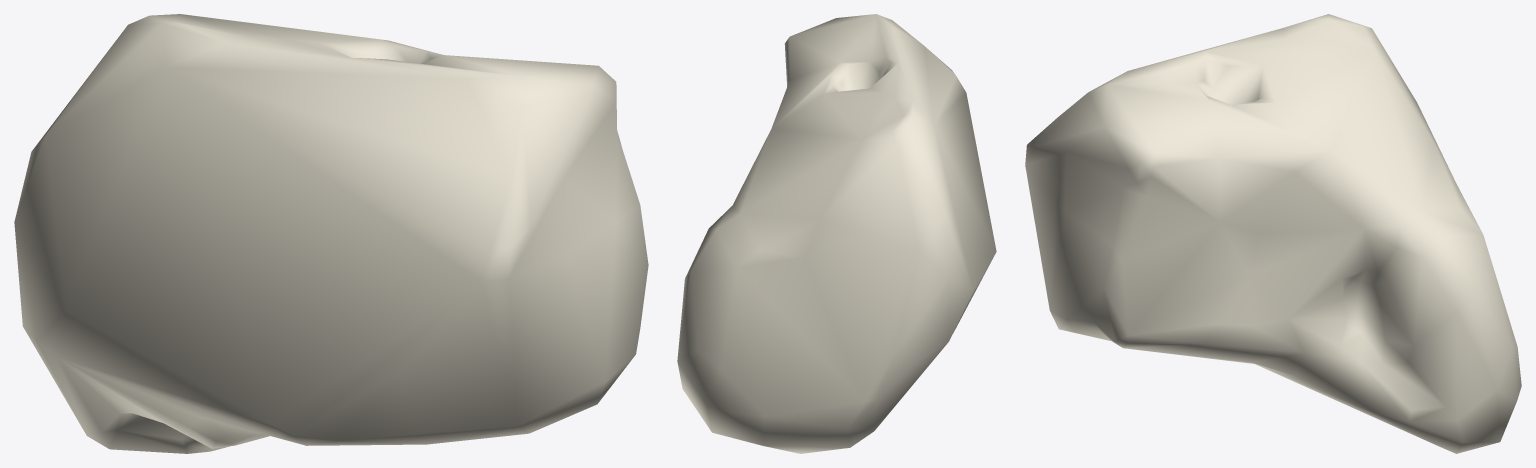
3 renders of one model, left to right at view 1: azimuth 30°, elevation 25°; view 2: azimuth 150°, elevation 25°; view 3: azimuth 270°, elevation 25°, orthographic. The views are drawn at different scales.
Visible parts, largest first — view 1: ZA_467ce626607969ad; view 2: ZA_467ce626607969ad; view 3: ZA_467ce626607969ad.
Part boxes in pixels (x1,y1,x2,y2): ZA_467ce626607969ad: (14,14,648,453); ZA_467ce626607969ad: (677,14,996,453); ZA_467ce626607969ad: (1025,14,1521,453).
Bounding box in the file's own units: 0.0117 × 0.0131 × 0.0155.
